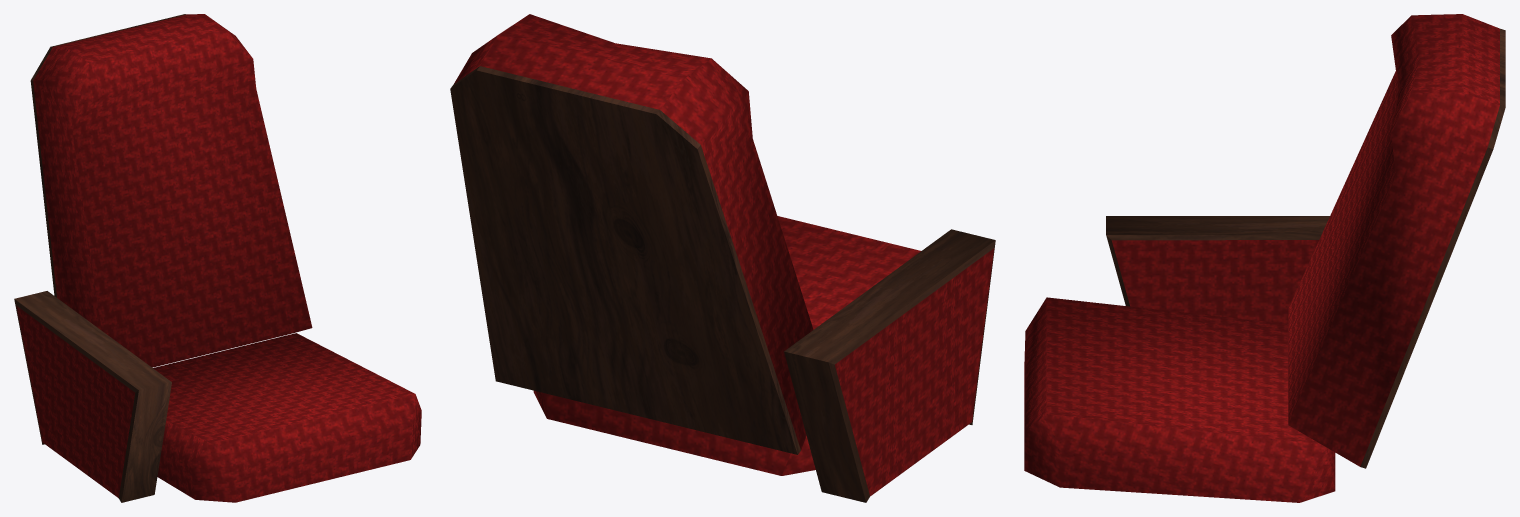
File: chair_.fbx
3 renders of one model, left to right at view 1: azimuth 30°, elevation 25°; view 2: azimuth 150°, elevation 25°; view 3: azimuth 270°, elevation 25°, orthographic. The views are drawn at different scales.
Parts seen in each view (by area): view 1: Chair, ChairBack; view 2: ChairBack, Chair; view 3: Chair, ChairBack.
Boxes of the visible parts, box(x1,y1,x2,y2) form: Chair: box(16, 14, 421, 502); ChairBack: box(14, 14, 186, 502); ChairBack: box(450, 66, 995, 502); Chair: box(454, 14, 994, 496); Chair: box(1024, 14, 1499, 502); ChairBack: box(1106, 28, 1505, 468).
Size of the model in its own units: 69.94 by 84.92 by 93.86.
